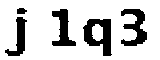1: (46, 7, 77, 51)
3: (118, 4, 150, 52)
j: (2, 6, 30, 60)
q: (82, 16, 117, 60)
